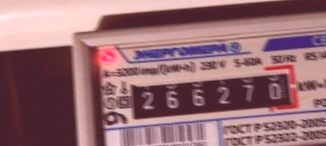0: (266, 79, 282, 100)
2: (139, 88, 154, 110), (216, 83, 231, 105)
6: (164, 87, 178, 109), (190, 86, 205, 106)
7: (242, 81, 254, 101)
screen: (117, 58, 304, 129)
